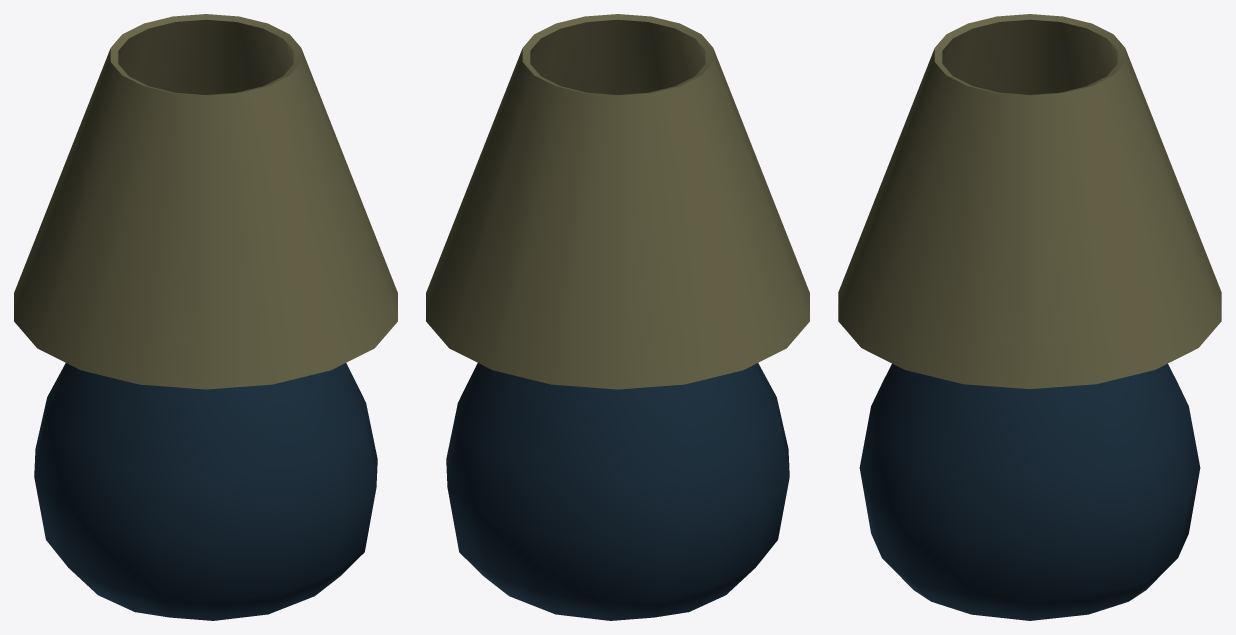
Rendered from Lamp.FBX.
3 views of the same model, side by side, from view 1: azimuth 30°, elevation 25°; view 2: azimuth 150°, elevation 25°; view 3: azimuth 270°, elevation 25° (orthographic).
Parts seen in each view (by area): view 1: Box003; view 2: Box003; view 3: Box003.
Boxes of the visible parts, x1,y1,x2,y2 form: Box003: (14,14,397,620); Box003: (426,14,809,620); Box003: (838,14,1221,620).
Bounding box in the file's own units: 10.91 × 16.32 × 10.75.
